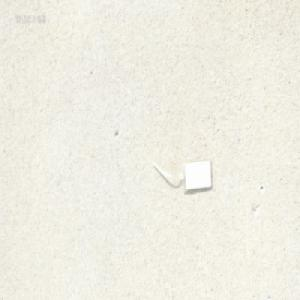LuggageTag: (151, 157, 212, 193)
